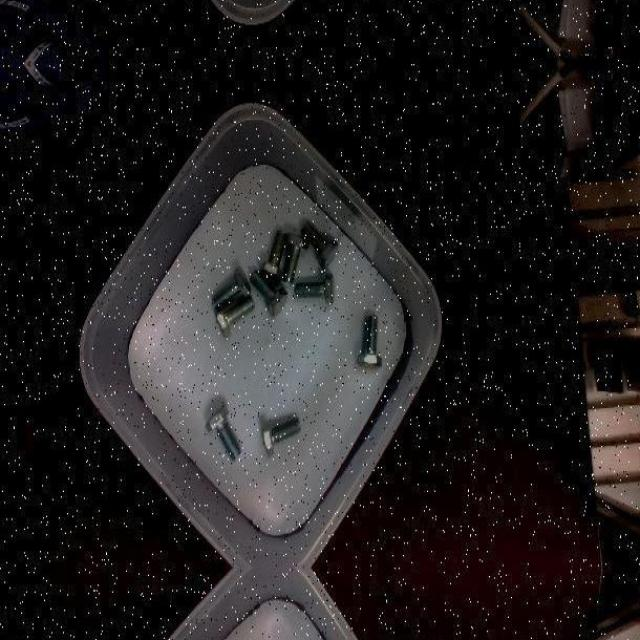screw: (206, 405, 241, 461), (248, 270, 288, 317), (301, 220, 339, 268), (214, 296, 255, 339), (212, 267, 252, 310), (262, 416, 301, 456), (259, 228, 287, 282), (283, 233, 311, 285), (358, 314, 383, 368), (296, 273, 336, 306)
